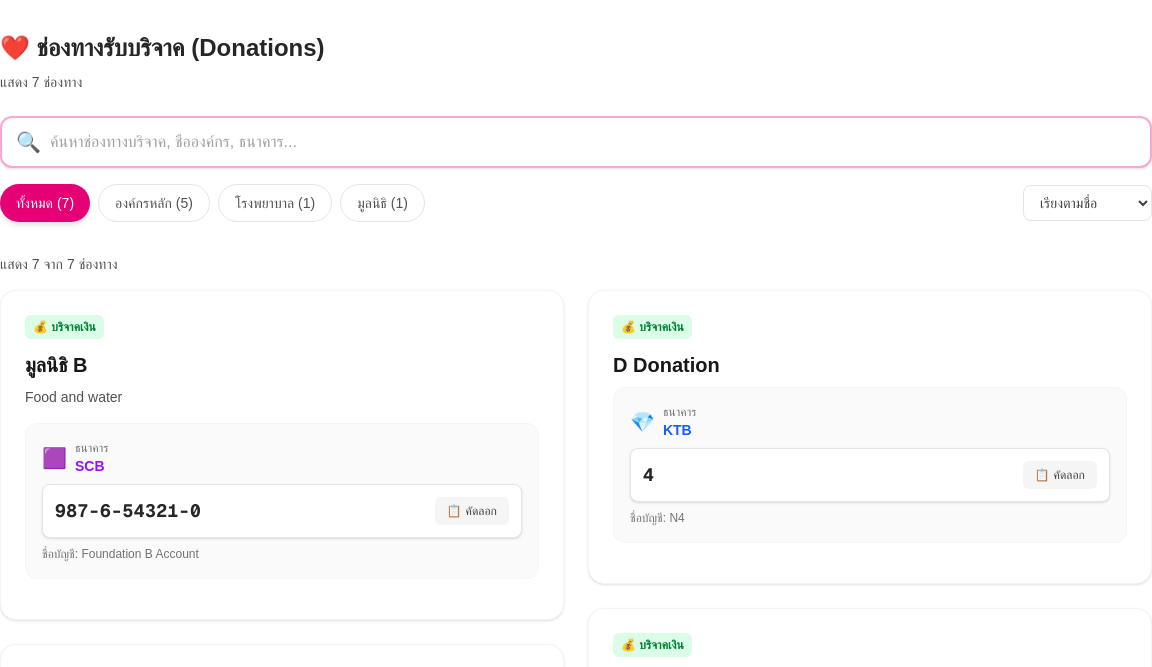
Test: DonationsSection › clears search from no results state
Type "NonExistent" into the field with placeholder "ค้นหาช่องทางบริจาค, ชื่อองค์กร, ธนาคาร..." at (576, 142), box [0, 116, 1151, 168]
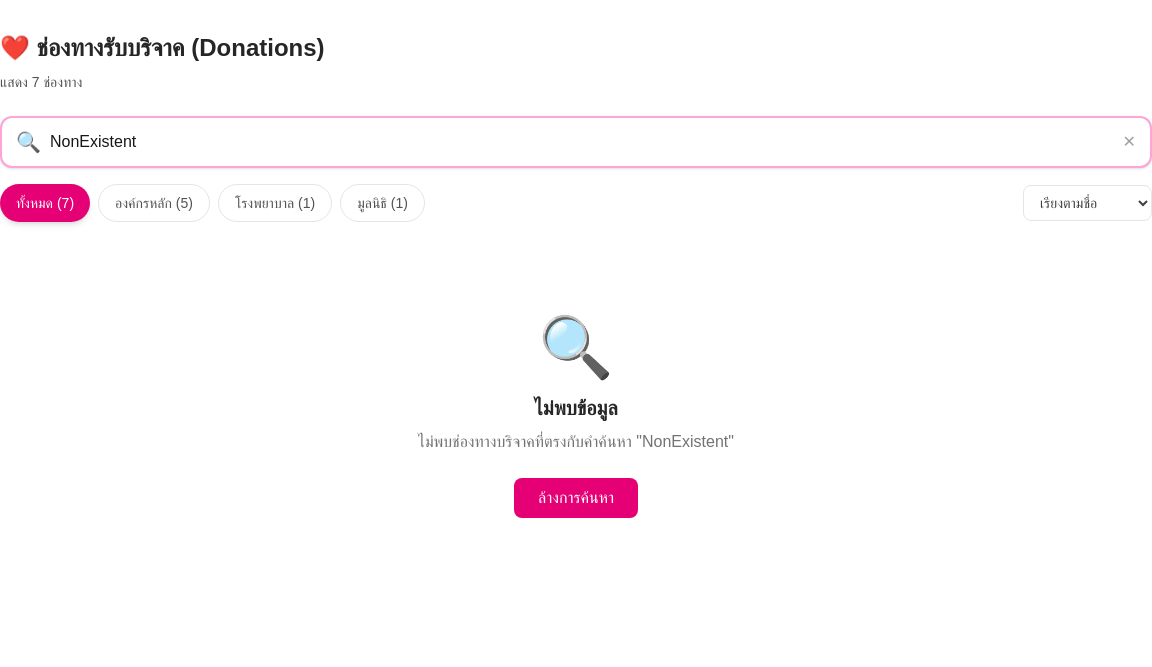
Expected: the heading "ไม่พบข้อมูล" is shown, [534, 394, 618, 422]
Click the button "ล้างการค้นหา" at (576, 498), box [514, 478, 638, 518]
(page scrolled)
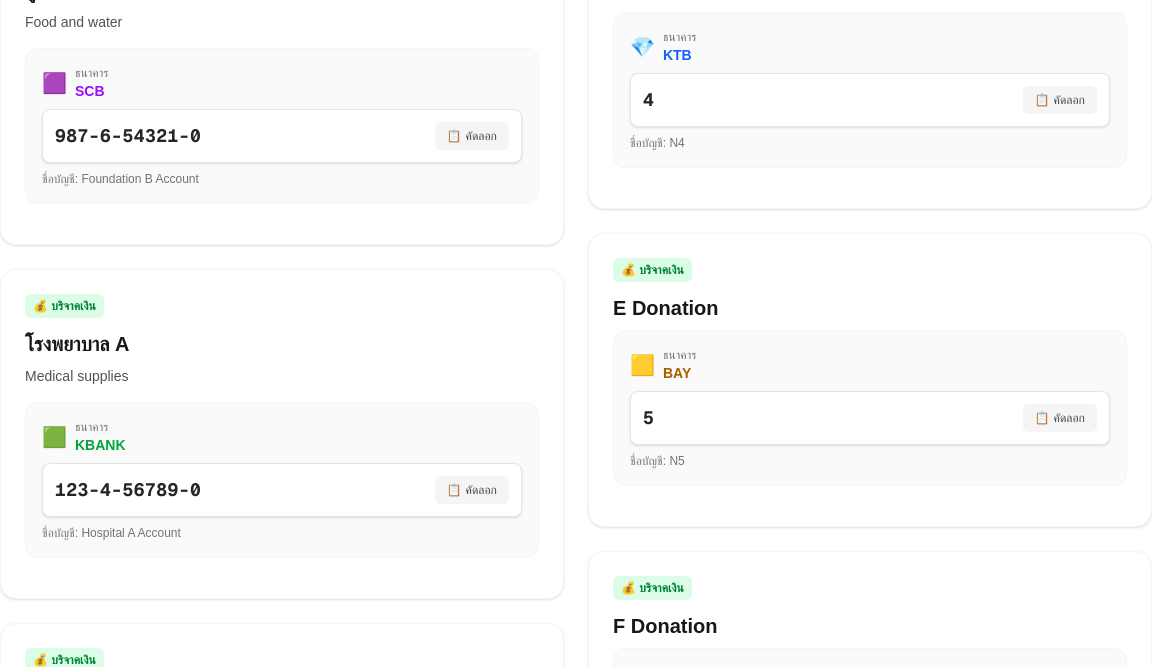
Expected: the heading "ไม่พบข้อมูล" is gone
Expected: the heading "โรงพยาบาล A" is shown, [25, 333, 130, 355]
